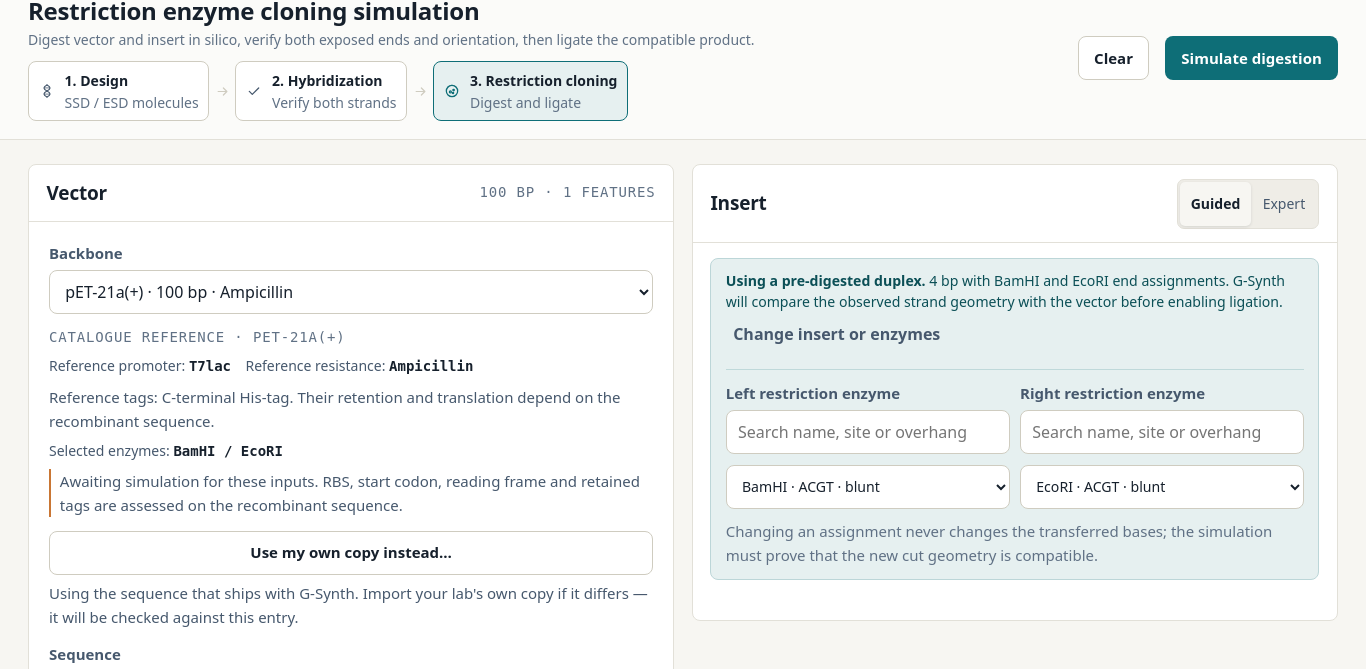
Test case: applies vector defaults again after leaving a transferred duplex
The width and height of the screenshot is (1366, 669).
Click the button "Change insert or enzymes" at (837,334), box [726,312,948,356]
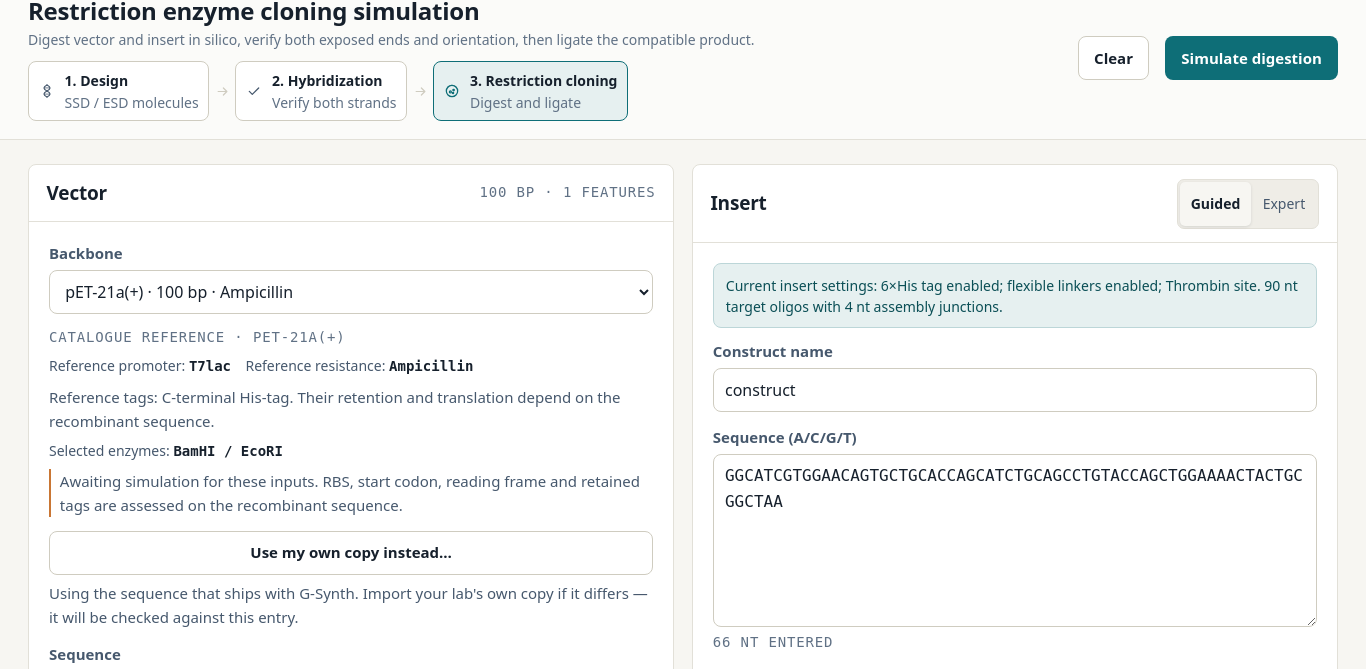
Select "Other reference · 100 bp · Ampicillin" in the dropdown labelled "Backbone" at (351,292), box [49,270,653,314]
(page scrolled)
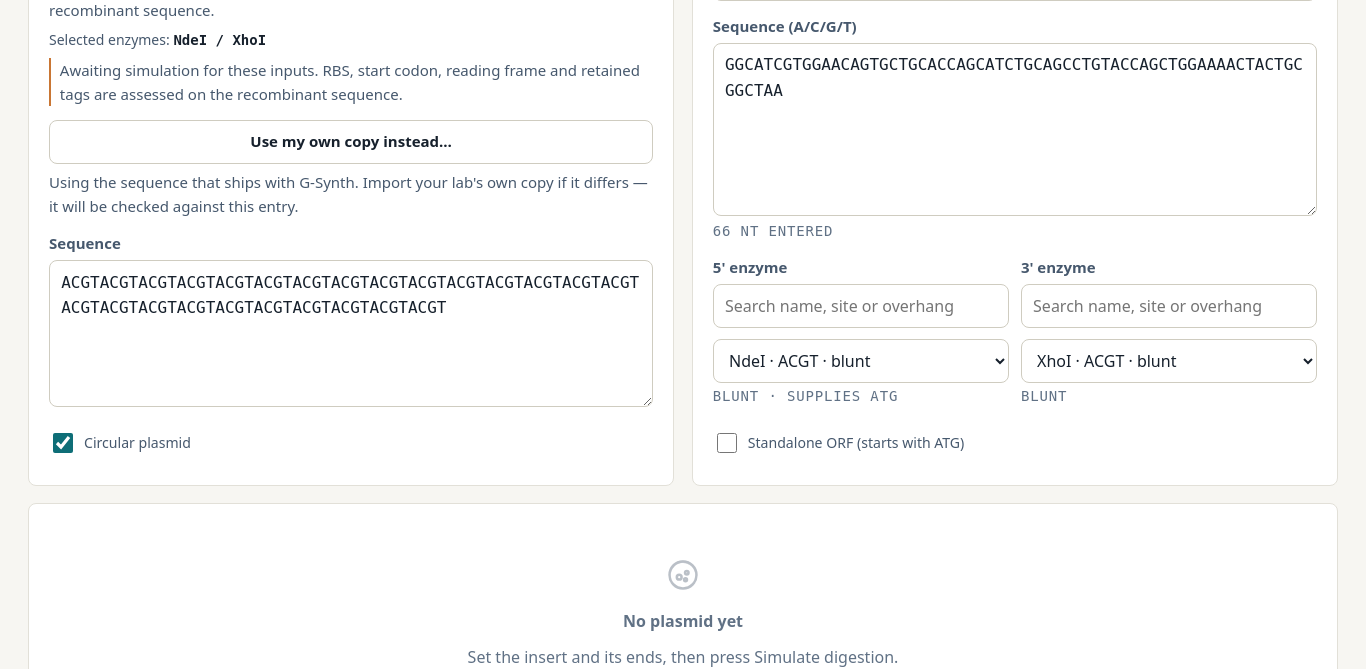
Expected: the dropdown labelled "5' enzyme" shows "NdeI · ACGT · blunt", [713,339,1009,383]
Expected: the dropdown labelled "3' enzyme" shows "XhoI · ACGT · blunt", [1021,339,1317,383]
